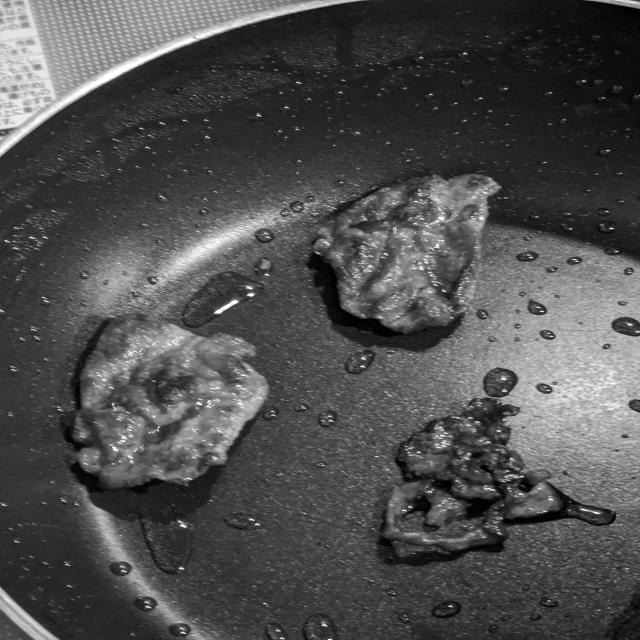overcooked pork: (56, 300, 290, 496), (300, 166, 504, 341), (371, 394, 577, 561)
